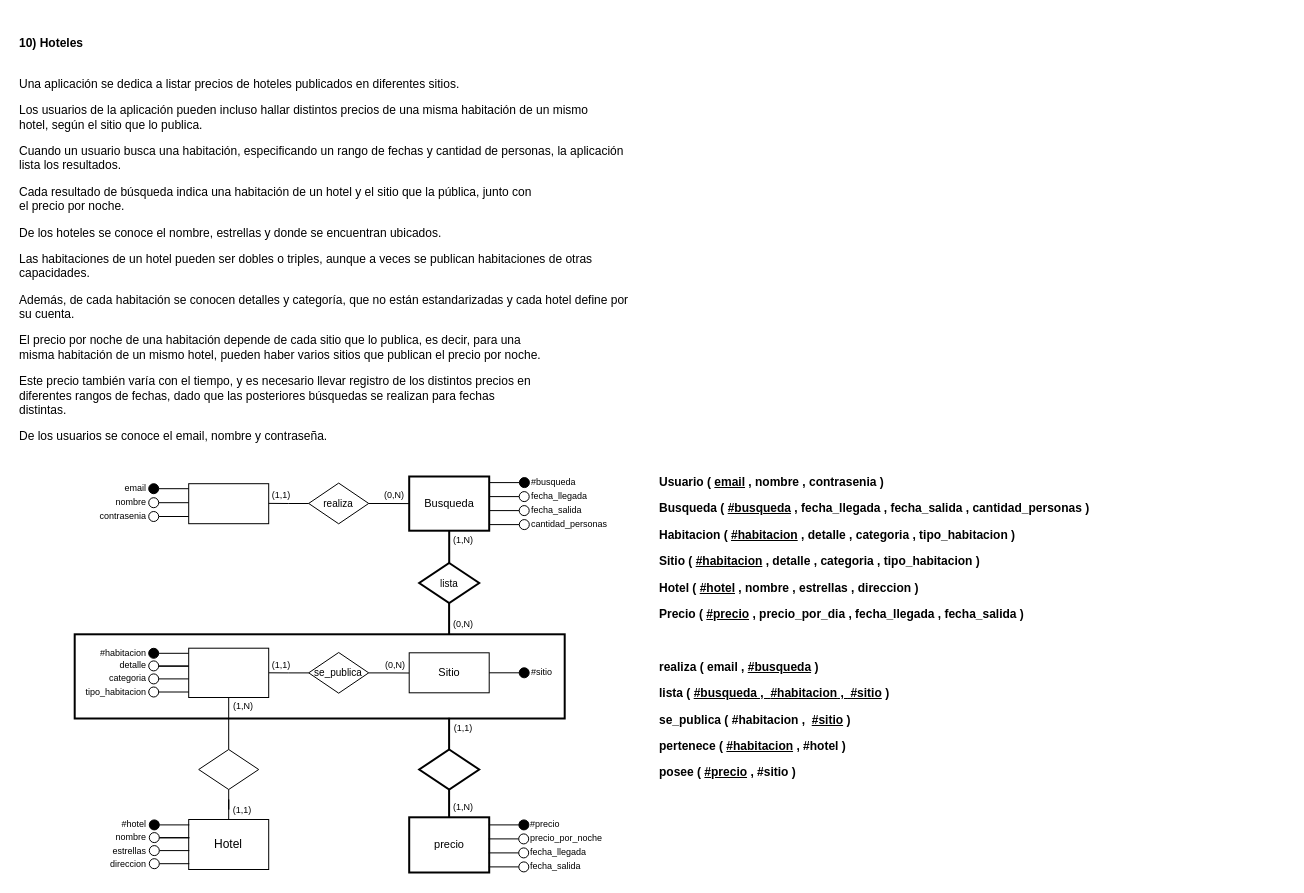
Image size: 1304x893. Some labels were removed from this diagram. Here are the shapes that lost their labels. From the top down, the centre of each, then its label:
point 228,503: Usuario
point 228,672: Habitacion
point 228,769: pertenece
point 449,769: posee
